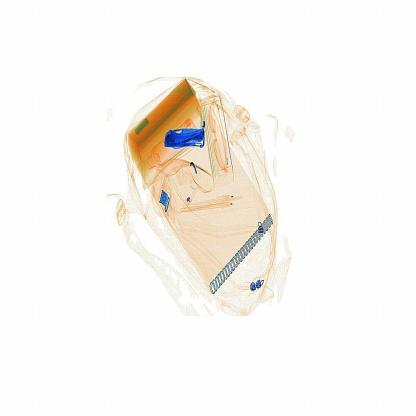knife: (164, 119, 214, 162)
